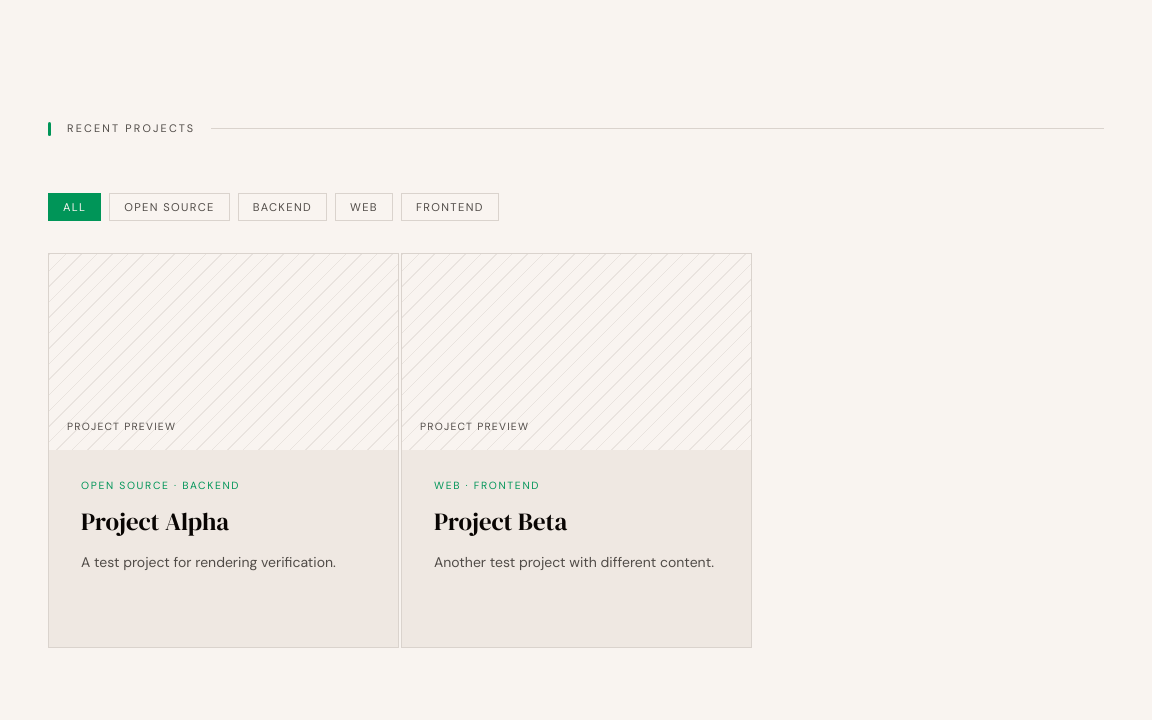
Scenario: Projects › restores all projects when All chip is clicked after filtering
Click the button "Backend" at (282, 207), box [238,193,327,221]
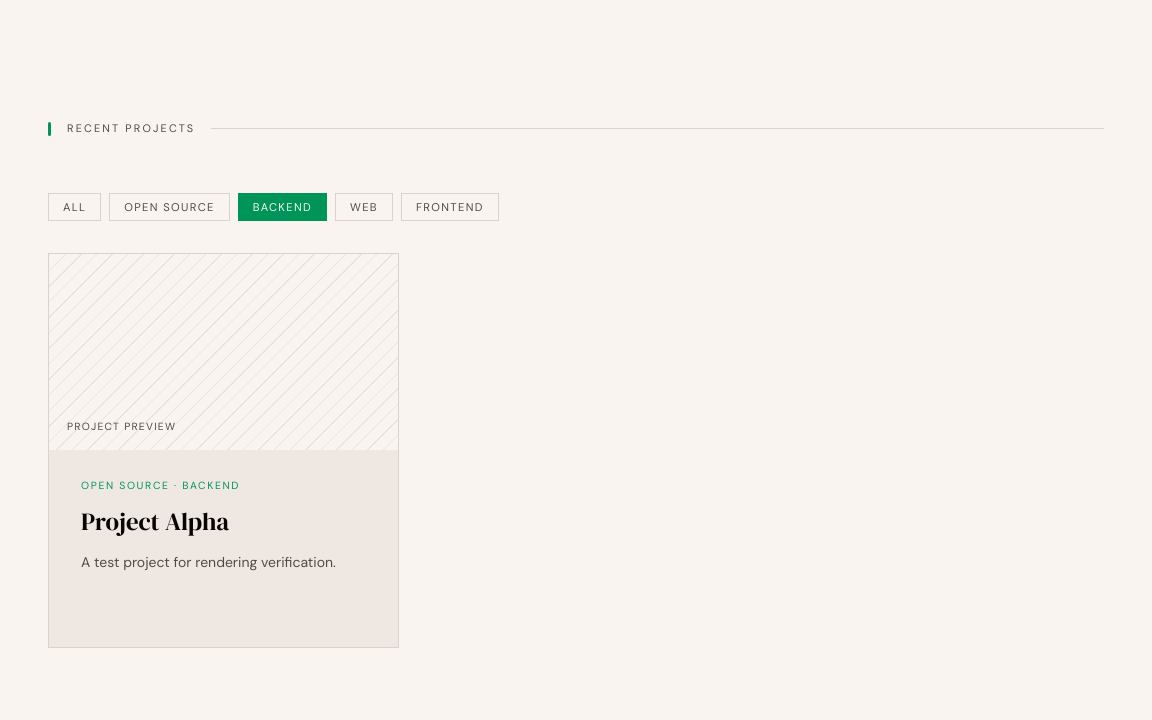
Click the button "All" at (75, 207), box [48,193,101,221]
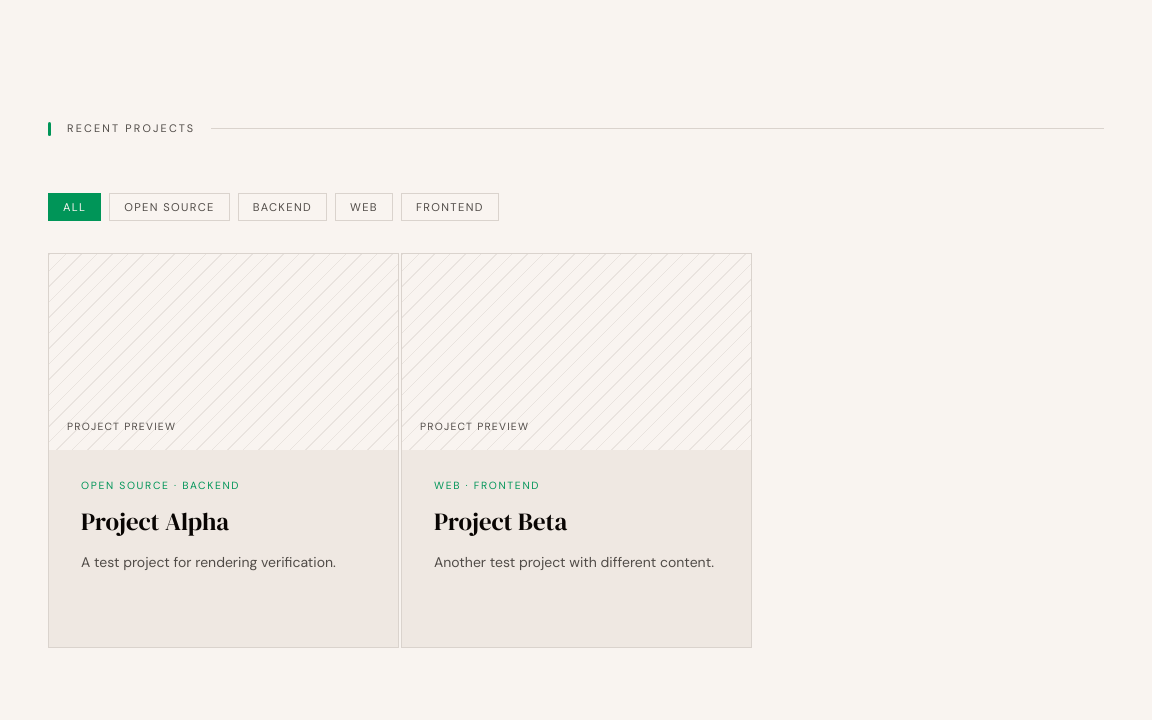
Expected: the heading "Project Alpha" is shown, [81,504,229,538]
Expected: the heading "Project Beta" is shown, [434,504,567,538]
